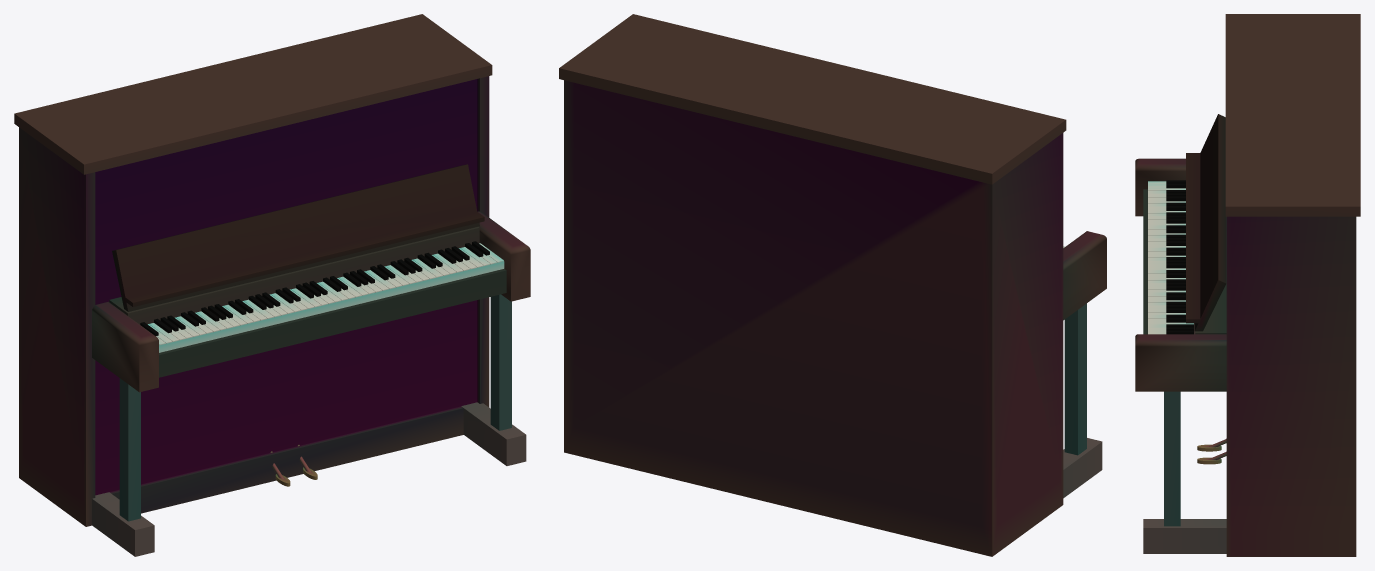
The picture shows the model from 3 angles, left to right: view 1: azimuth 30°, elevation 25°; view 2: azimuth 150°, elevation 25°; view 3: azimuth 270°, elevation 25°; orthographic projection. The views are drawn at different scales.
Visible parts, largest first — view 1: case, sloping_board, key_bed, cheek.001, support.001, support, key_foundation, cheek, foot, foot.003; view 2: case, support.001, cheek.001, foot.003; view 3: case, sloping_board, cheek, foot, support, cheek.001, key_bed.
Boxes of the visible parts, bbox=[...] form: case: bbox=[14, 14, 492, 526]; sloping_board: bbox=[112, 164, 484, 311]; key_bed: bbox=[109, 226, 506, 377]; cheek.001: bbox=[92, 301, 158, 392]; support.001: bbox=[119, 378, 140, 521]; support: bbox=[490, 294, 511, 430]; key_foundation: bbox=[159, 261, 504, 352]; cheek: bbox=[478, 211, 530, 301]; foot: bbox=[461, 402, 526, 465]; foot.003: bbox=[92, 492, 154, 556]; case: bbox=[559, 14, 1066, 556]; support.001: bbox=[1064, 303, 1086, 455]; cheek.001: bbox=[1063, 231, 1106, 320]; foot.003: bbox=[1063, 438, 1102, 498]; case: bbox=[1225, 14, 1360, 556]; sloping_board: bbox=[1186, 114, 1226, 331]; cheek: bbox=[1135, 334, 1226, 391]; foot: bbox=[1143, 519, 1226, 553]; support: bbox=[1164, 391, 1180, 526]; cheek.001: bbox=[1135, 158, 1185, 216]; key_bed: bbox=[1143, 189, 1226, 334].
Bounding box in the file's own units: 1.5 × 1.28 × 0.742.
